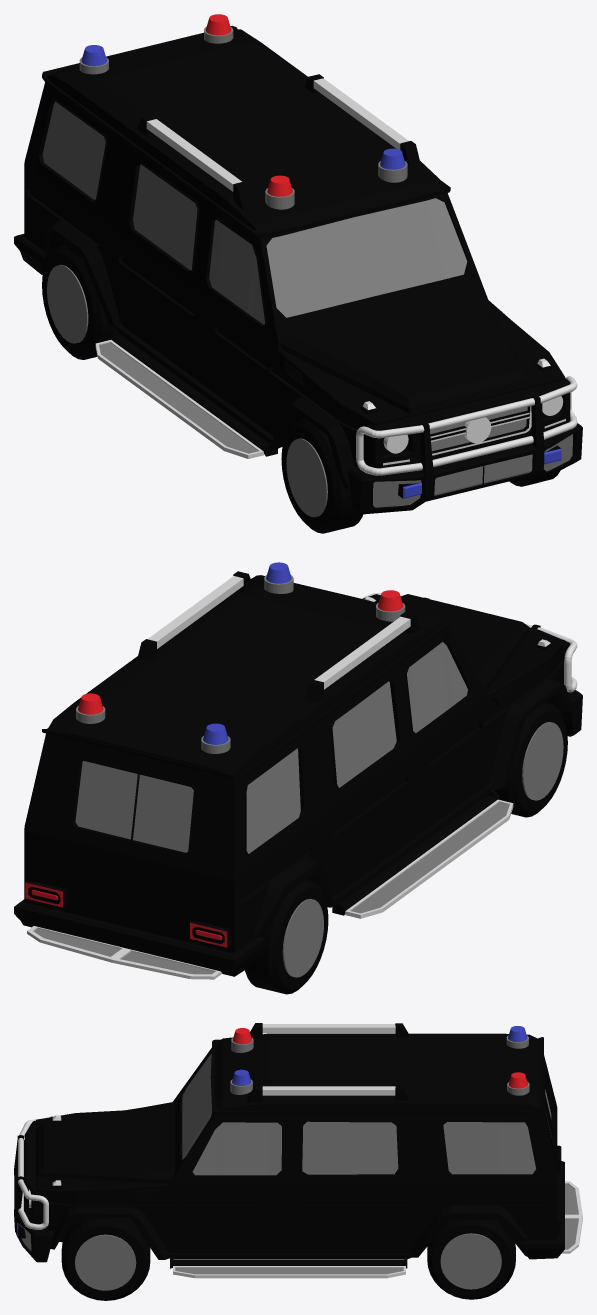
File: Авто 18.fbx
The picture shows the model from 3 angles, top to bottom: view 1: azimuth 30°, elevation 25°; view 2: azimuth 150°, elevation 25°; view 3: azimuth 270°, elevation 25°; orthographic projection. The views are drawn at different scales.
Visible parts, largest first — view 1: Cube, Cylinder.004, Cylinder.003, Cylinder.001, Cylinder.002, Cylinder.005; view 2: Cube, Cylinder.004, Cylinder.003, Cylinder.005, Cylinder.002, Cylinder.001; view 3: Cube, Cylinder.004, Cylinder.003, Cylinder.001, Cylinder.005, Cylinder.002.
Boxes of the visible parts, x1,y1,x2,y2 form: Cube: (14, 25, 582, 514); Cylinder.004: (42, 245, 560, 533); Cylinder.003: (378, 148, 407, 182); Cylinder.001: (265, 175, 294, 209); Cylinder.002: (79, 45, 108, 74); Cylinder.005: (204, 14, 233, 43); Cube: (14, 571, 582, 979); Cylinder.004: (245, 702, 567, 994); Cylinder.003: (264, 562, 293, 593); Cylinder.005: (76, 693, 105, 723); Cylinder.002: (201, 723, 230, 753); Cylinder.001: (376, 590, 405, 621); Cube: (14, 1023, 582, 1278); Cylinder.004: (61, 1218, 515, 1300); Cylinder.003: (230, 1069, 252, 1094); Cylinder.001: (231, 1028, 253, 1052); Cylinder.005: (507, 1072, 529, 1095); Cylinder.002: (506, 1026, 528, 1048).
Size of the model in its own units: 143 by 131 by 325.
